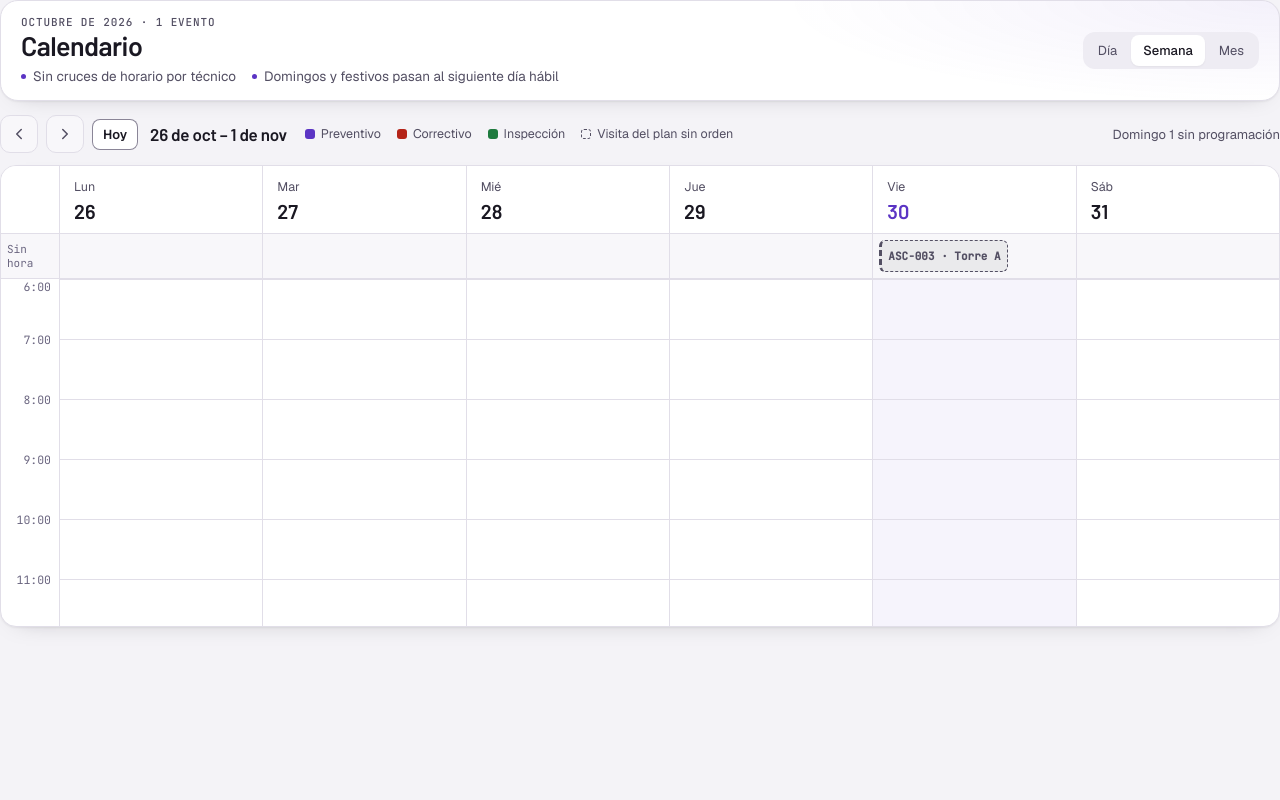
Scenario: calendario de mantenimientos › consulta el rango del mes y muestra las visitas en su día
// El supervisor solo consulta: el detalle no ofrece acciones.
Click the button "ASC-003 · Torre A". click: point(943, 256)
box: [879,240,1008,272]
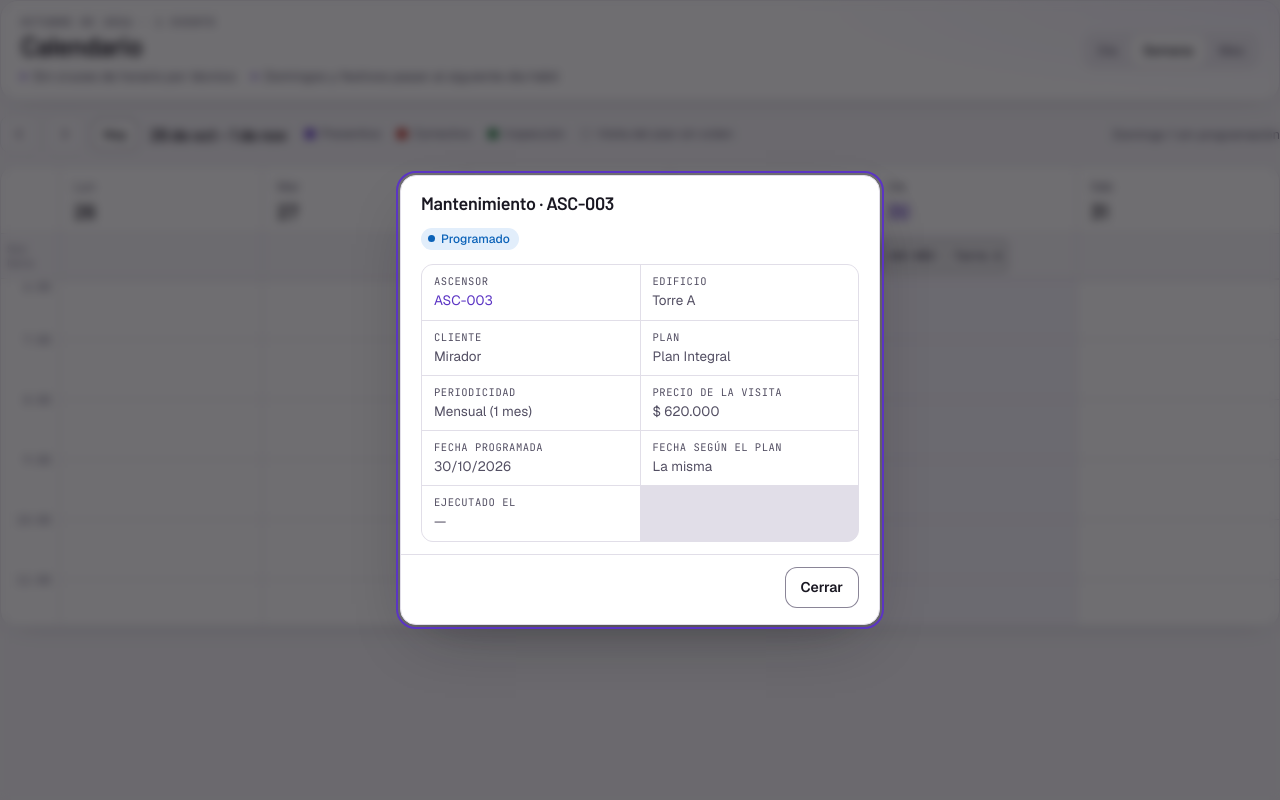
Now the text "Plan Integral" is shown, box [652,347,730,365]
